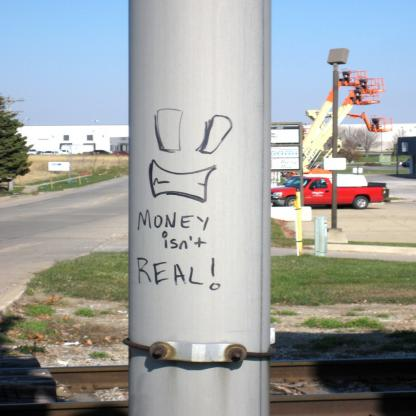Truck: (272, 176, 384, 209)
